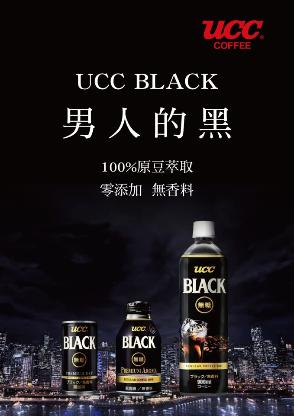Can: (62, 321, 98, 395)
Plastic Bottle: (179, 221, 225, 395), (113, 298, 162, 396)
